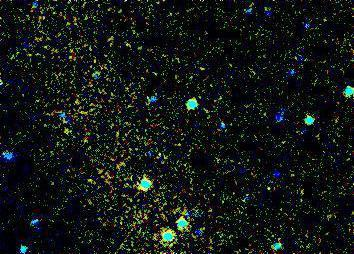star: (256, 174, 286, 204)
